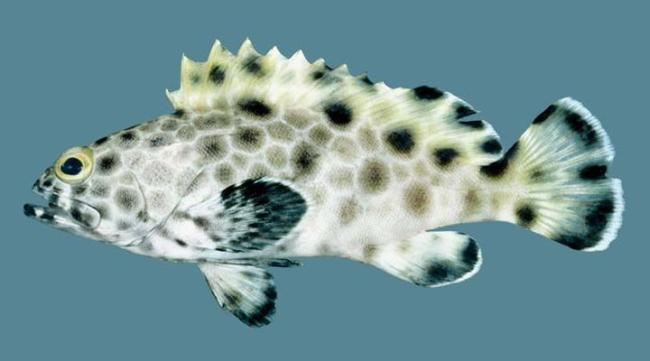fish: (22, 35, 626, 331)
